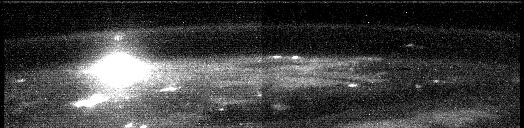positive: (109, 31, 126, 46)
